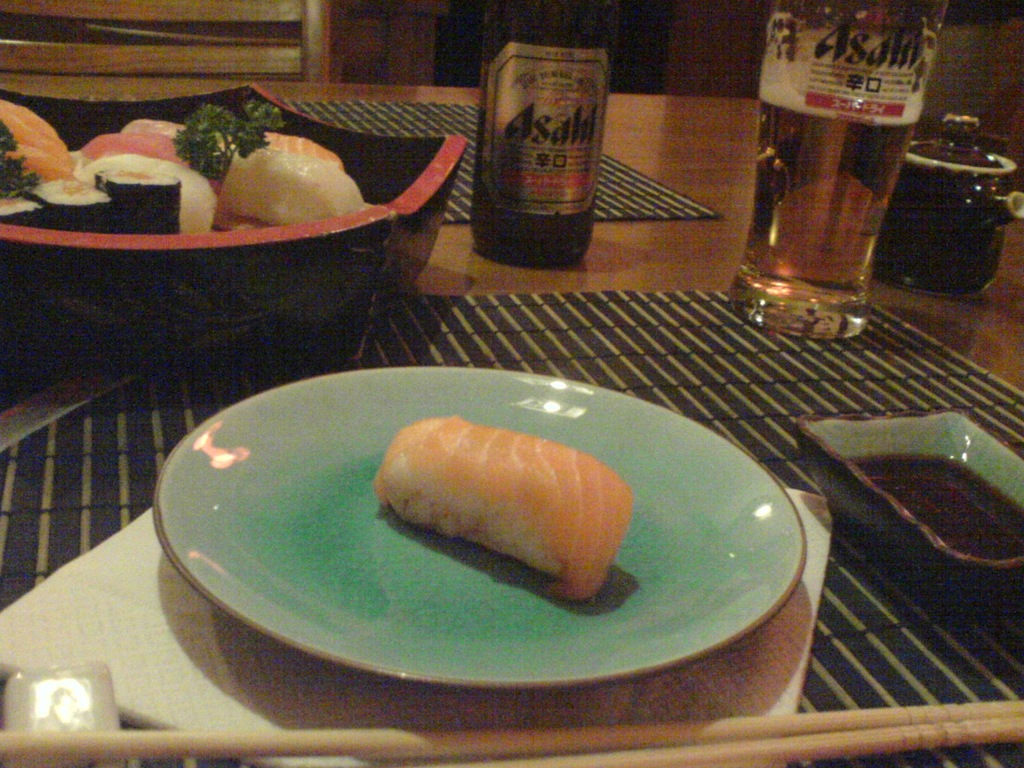sushi: (0, 95, 380, 227), (372, 419, 638, 589)
